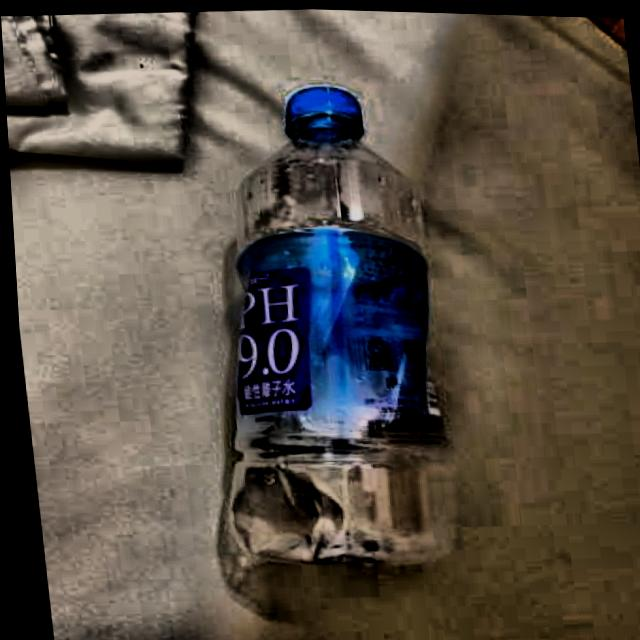Bottles: (160, 63, 483, 601)
